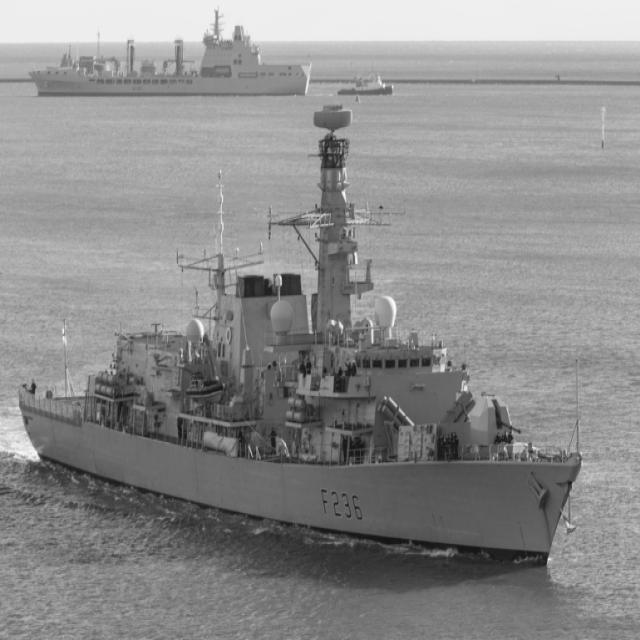Fragata: (18, 107, 585, 569)
